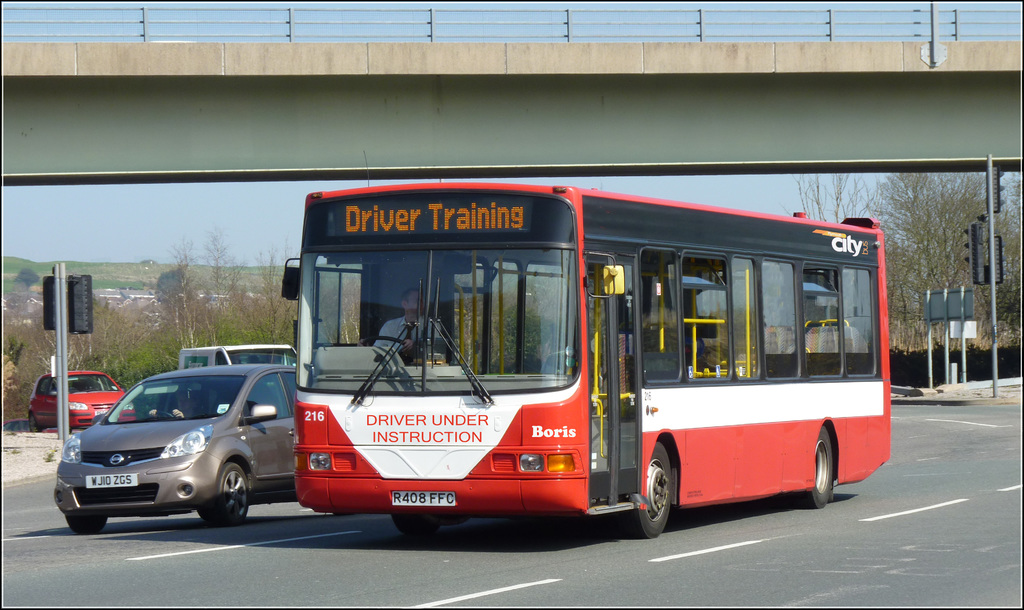car: (55, 355, 308, 539), (20, 358, 139, 439)
truck: (281, 176, 907, 535)
